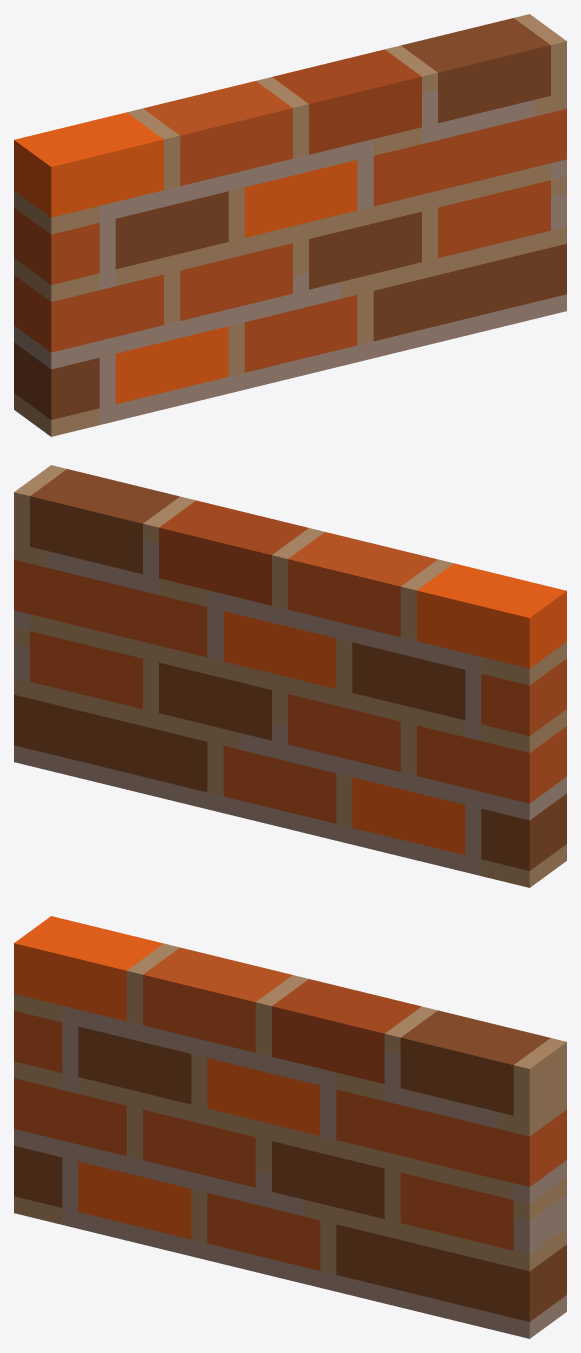
The model's file is Garden Brick Wall.obj.
3 renders of one model, top to bottom at view 1: azimuth 30°, elevation 25°; view 2: azimuth 150°, elevation 25°; view 3: azimuth 330°, elevation 25°, orthographic.
Size of the model in its own units: 3.2 by 1.6 by 0.4.
1 material, 1 textured.
